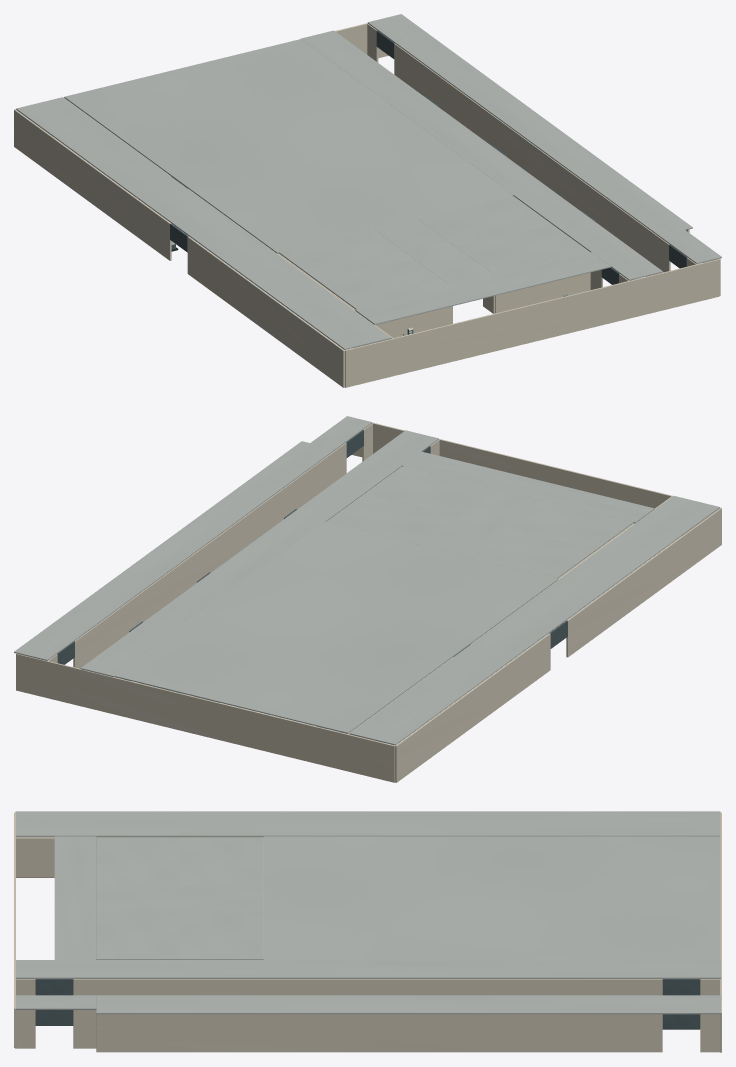
File: SOL_D05_directory_02_remaining_batch.glb
3 views of the same model, one above another, from view 1: azimuth 30°, elevation 25°; view 2: azimuth 150°, elevation 25°; view 3: azimuth 270°, elevation 25° (orthographic). The views are drawn at different scales.
Parts seen in each view (by area): view 1: A_Medical_ward_ceiling, A_Admission_ceiling, A_Medical_aft, A_clean_ceiling, A_soiled_ceiling, A_Service_separator_50_pier1, A_Admission_outer_pier1, A_Admission_outer_pier0, A_Wash_transfer_ceiling, A_Surgery1_ceiling, A_Surgery3_ceiling, A_Surgery2_ceiling (+6 smaller); view 2: A_Medical_ward_ceiling, A_Admission_ceiling, A_Medical_fore, A_clean_ceiling, A_soiled_ceiling, A_Service_separator_50_pier1, A_Admission_outer_pier0, A_Admission_outer_pier1, A_Medical_aft, A_Wash_transfer_ceiling, A_Surgery3_ceiling, A_Surgery1_ceiling (+4 smaller); view 3: A_Medical_ward_ceiling, A_soiled_back_edge_pier1, A_Admission_ceiling, A_clean_ceiling, A_soiled_ceiling, A_Service_separator_46_pier1, A_Wash_transfer_ceiling, A_Surgery2_ceiling, A_Surgery4_ceiling, A_Surgery1_ceiling, A_Surgery3_ceiling, A_Surgical_transfer_spine_ceiling (+12 smaller).
Part boxes in pixels (<box>): A_Medical_ward_ceiling: <box>64,39,513,253</box>; A_Admission_ceiling: <box>16,97,390,349</box>; A_Medical_aft: <box>345,259,719,387</box>; A_clean_ceiling: <box>300,30,662,280</box>; A_soiled_ceiling: <box>367,14,692,236</box>; A_Service_separator_50_pier1: <box>394,43,670,272</box>; A_Admission_outer_pier1: <box>187,236,344,387</box>; A_Admission_outer_pier0: <box>14,109,171,260</box>; A_Wash_transfer_ceiling: <box>355,252,610,324</box>; A_Surgery1_ceiling: <box>279,229,411,281</box>; A_Surgery3_ceiling: <box>318,257,450,309</box>; A_Surgery2_ceiling: <box>417,195,550,246</box>; A_Medical_ward_ceiling: <box>114,522,558,733</box>; A_Admission_ceiling: <box>349,496,719,745</box>; A_Medical_fore: <box>16,653,394,782</box>; A_clean_ceiling: <box>80,430,438,677</box>; A_soiled_ceiling: <box>14,441,334,660</box>; A_Service_separator_50_pier1: <box>73,442,346,668</box>; A_Admission_outer_pier0: <box>395,633,550,782</box>; A_Admission_outer_pier1: <box>566,508,721,657</box>; A_Medical_aft: <box>352,422,720,527</box>; A_Wash_transfer_ceiling: <box>402,451,654,523</box>; A_Surgery3_ceiling: <box>502,499,633,550</box>; A_Surgery1_ceiling: <box>464,527,594,578</box>; A_Medical_ward_ceiling: <box>263,836,719,959</box>; A_soiled_back_edge_pier1: <box>96,1014,662,1052</box>; A_Admission_ceiling: <box>16,811,719,836</box>; A_clean_ceiling: <box>16,960,720,978</box>; A_soiled_ceiling: <box>96,995,720,1014</box>; A_Service_separator_46_pier1: <box>73,979,662,995</box>; A_Wash_transfer_ceiling: <box>54,836,96,959</box>; A_Surgery2_ceiling: <box>180,909,263,959</box>; A_Surgery4_ceiling: <box>96,909,179,959</box>; A_Surgery1_ceiling: <box>180,837,263,886</box>; A_Surgery3_ceiling: <box>96,837,179,886</box>; A_Surgical_transfer_spine_ceiling: <box>96,886,263,909</box>.
Bounding box in the file's own units: 45.9 × 4.34 × 67.78.
289 materials, 289 textured.
